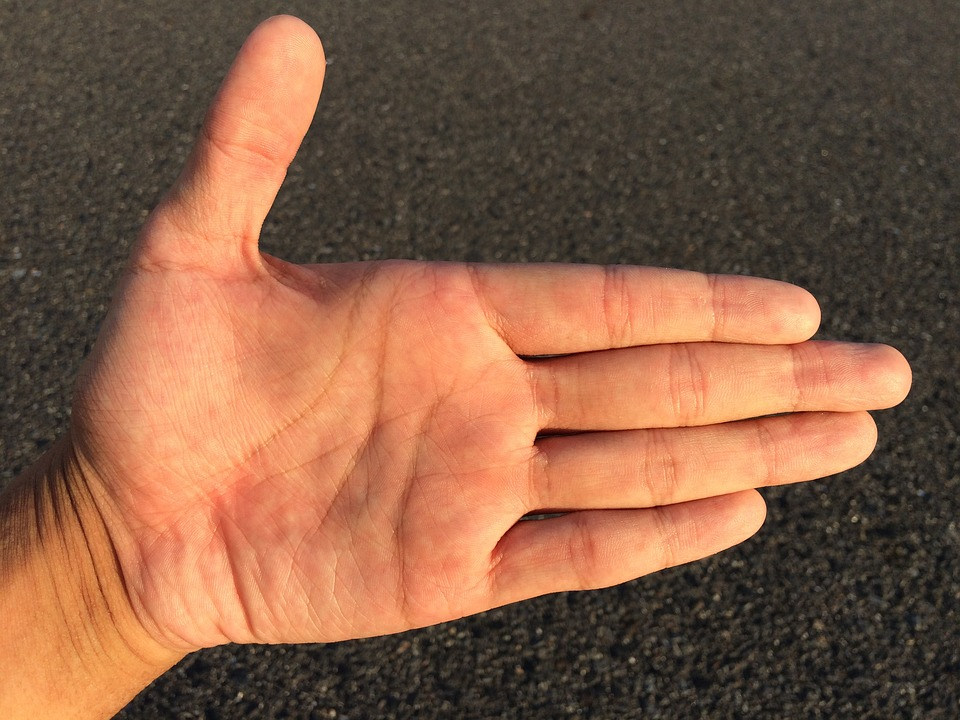non-diseased: (186, 50, 912, 615)
